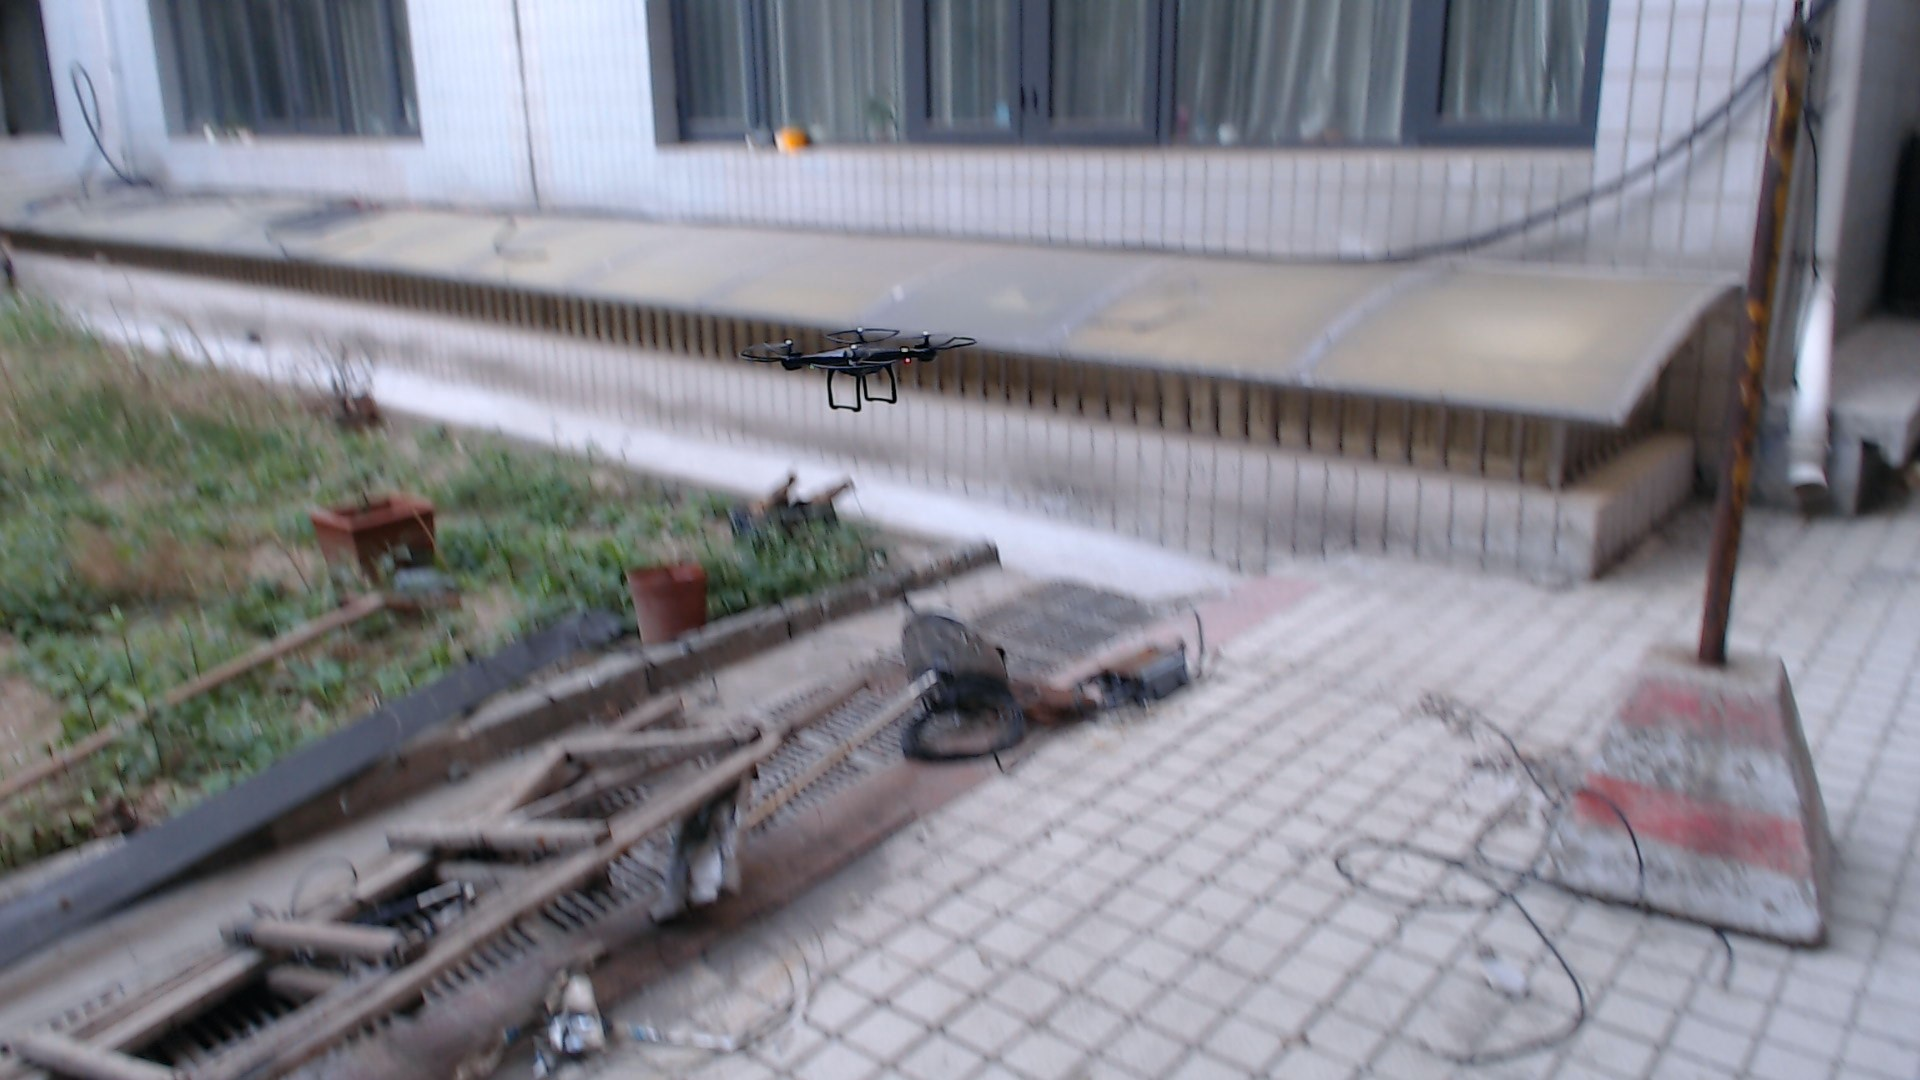drone: (727, 289, 992, 433)
